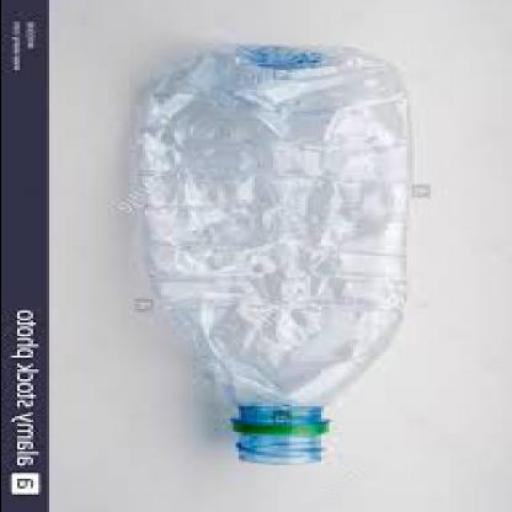plastic: (133, 47, 416, 465)
